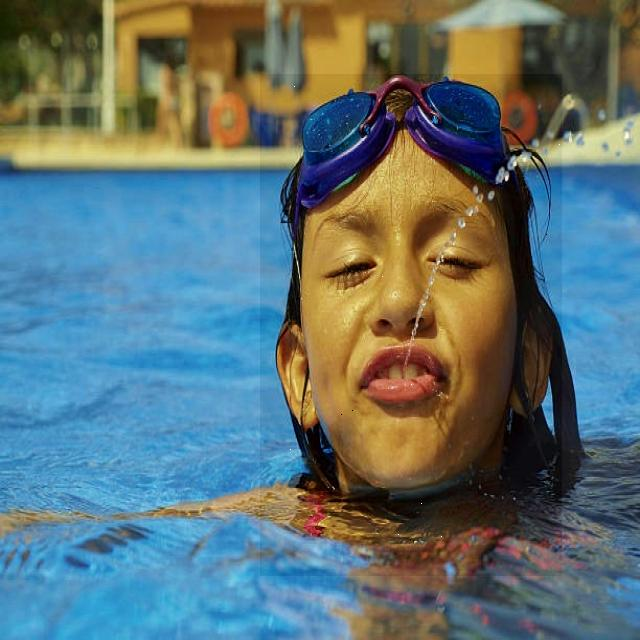Spitting: (260, 74, 562, 576)
